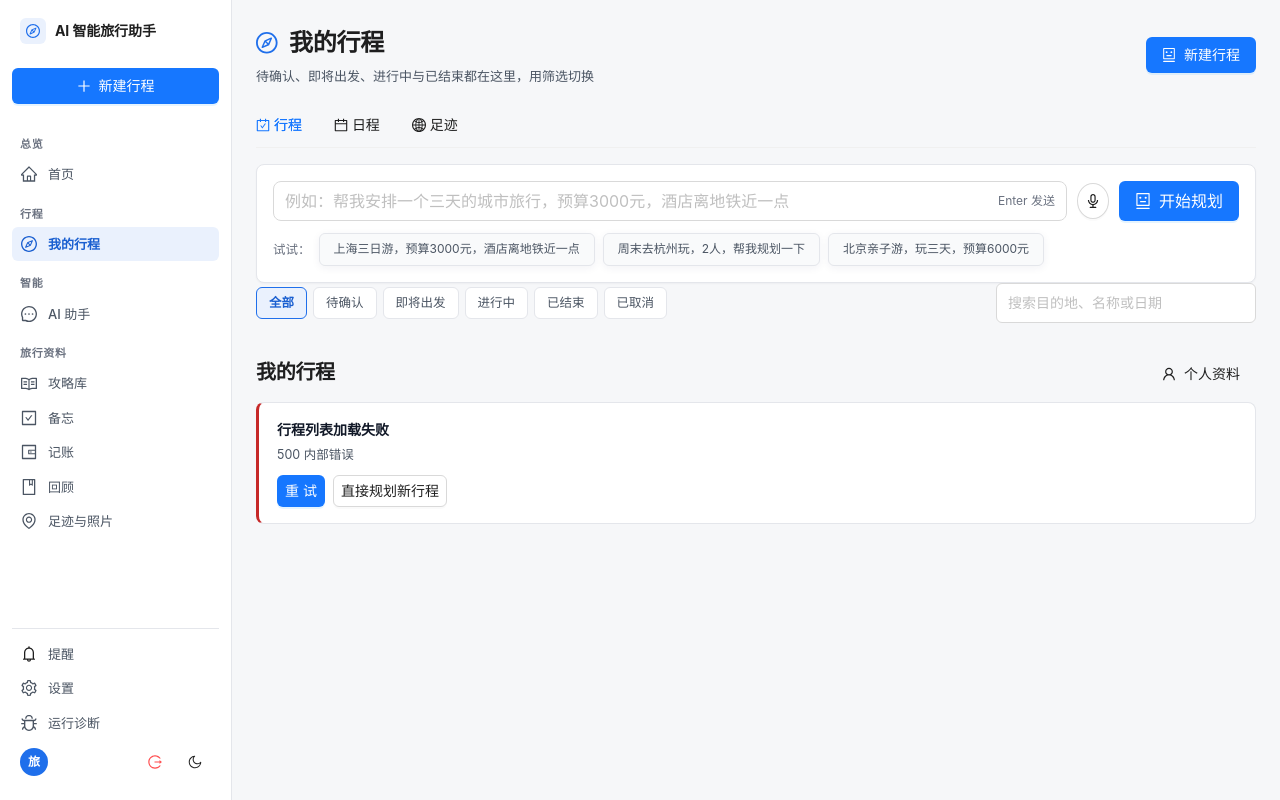
Test case: Travel · 行程列表状态（P0-04） › 失败后点重试能恢复列表
Check: the text "行程列表加载失败" is shown, box [277, 421, 389, 438]
Click the button "重 试" at point(301, 491), box [277, 475, 325, 507]
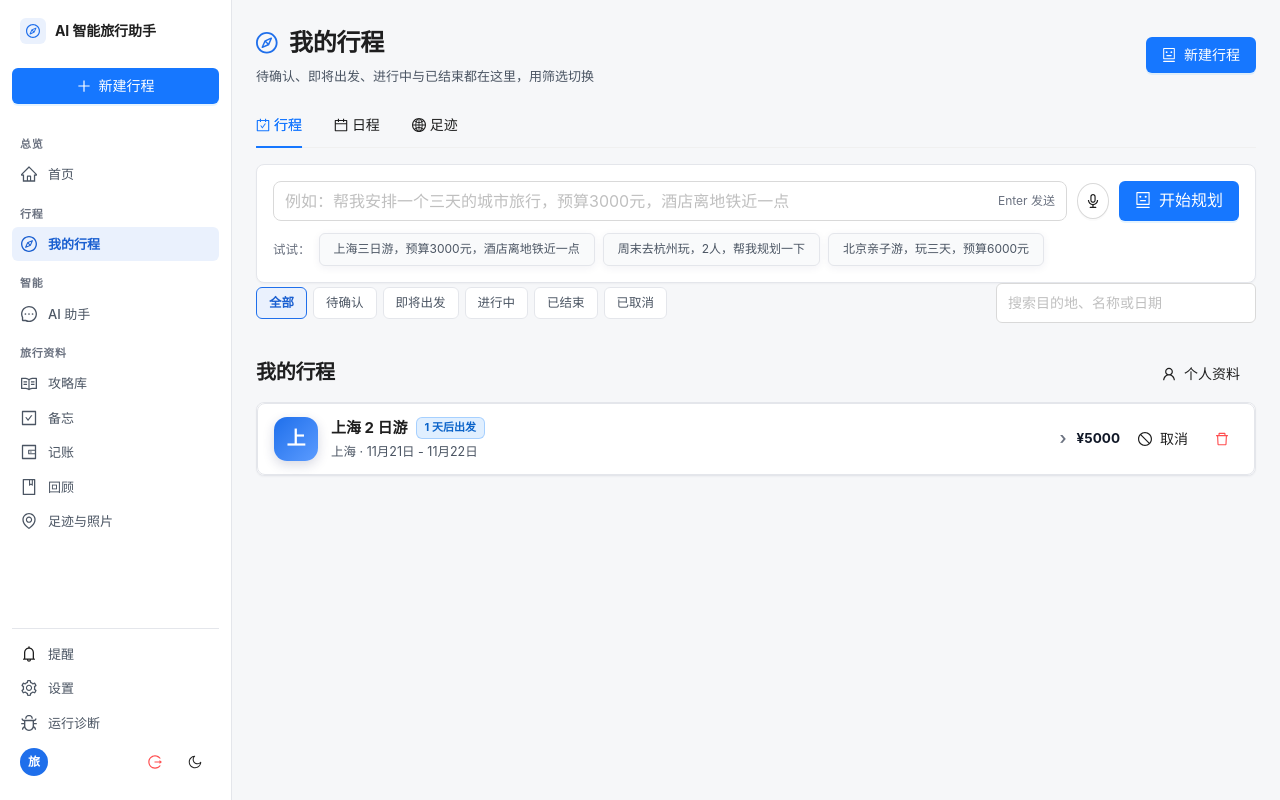
Check: the text "上海 2 日游" is shown, box [331, 416, 408, 440]
Check: the text "行程列表加载失败" is gone
